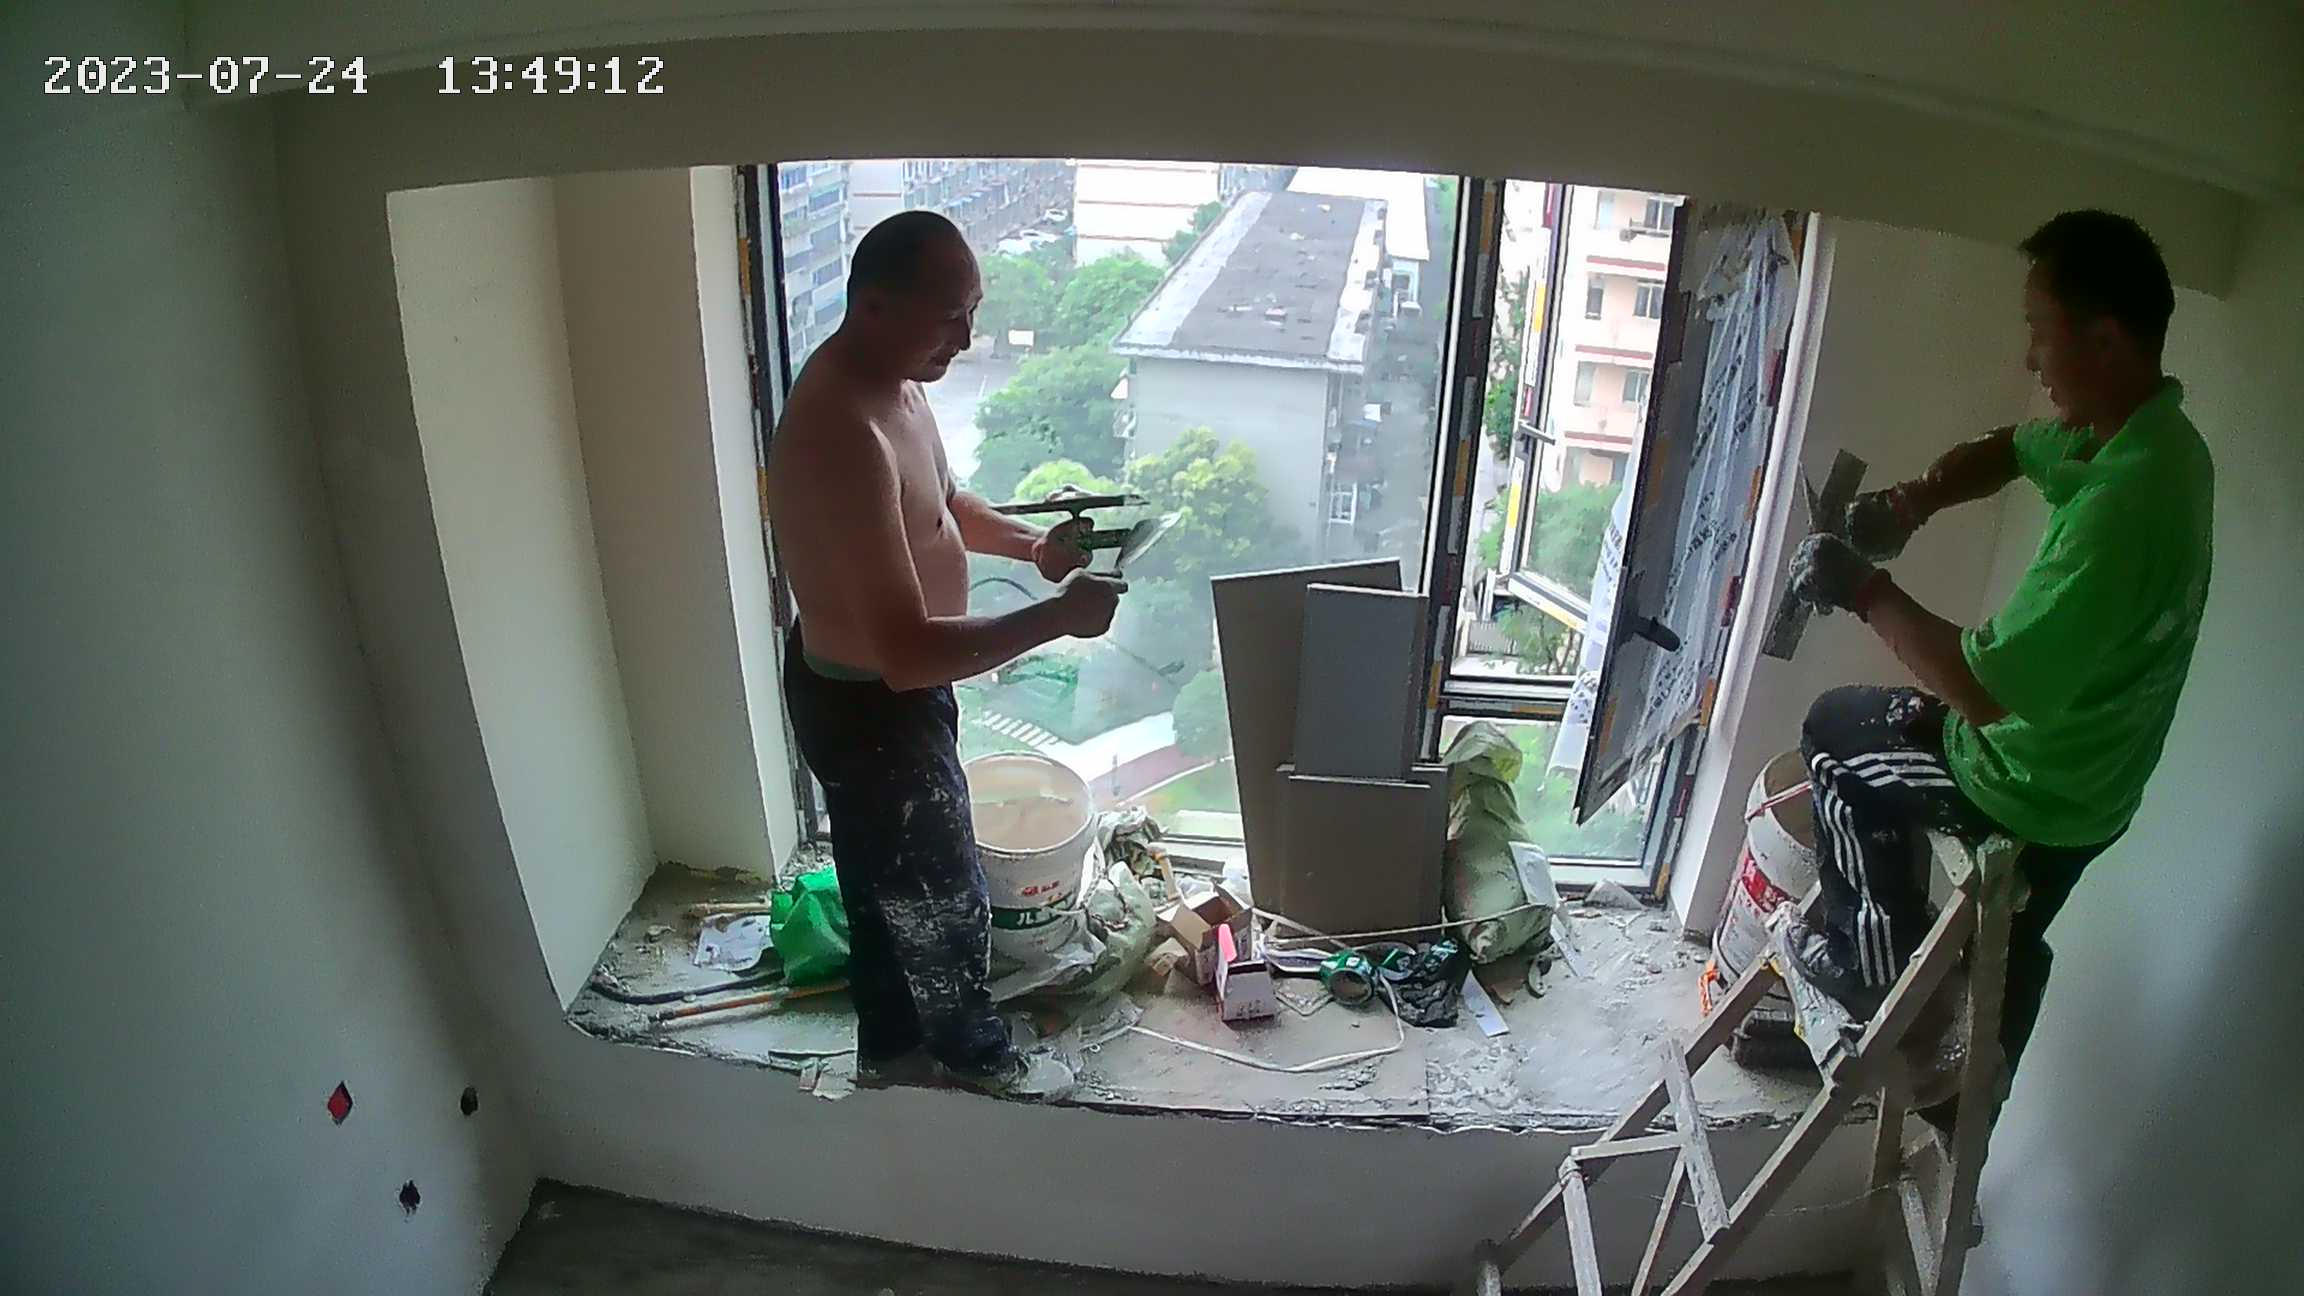people: (1783, 200, 2221, 1165), (762, 214, 1121, 1105)
window: (735, 164, 1736, 894)
